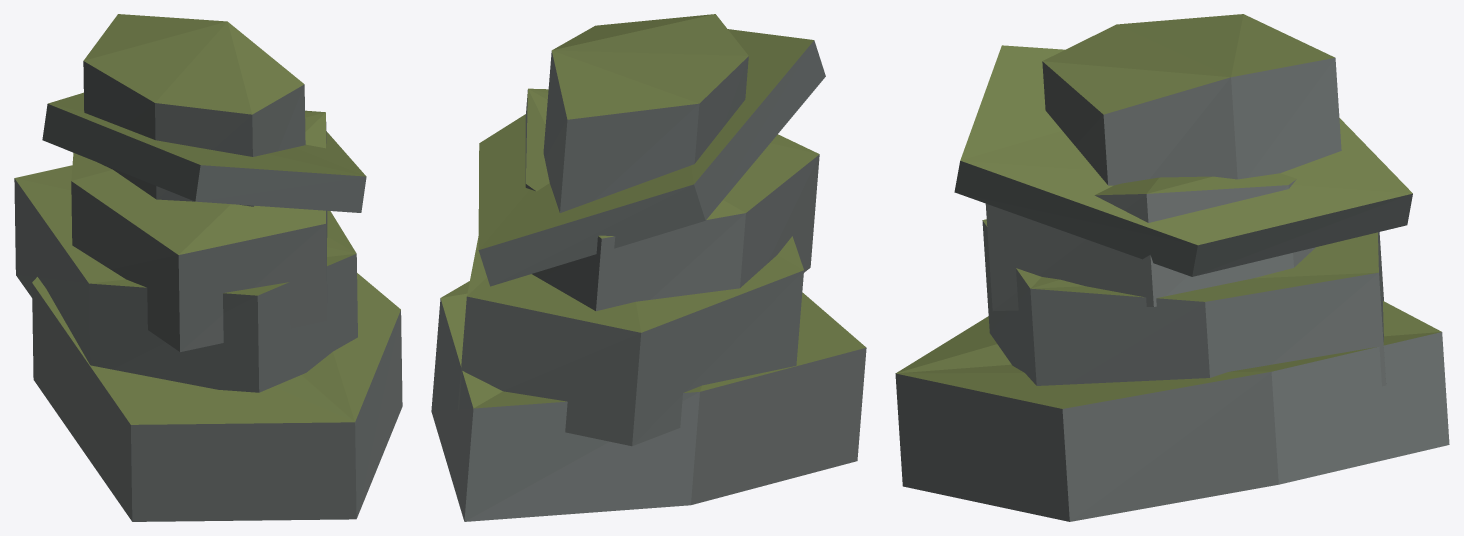
The model's file is rock.block__buried__autumn.glb.
The picture shows the model from 3 angles, left to right: view 1: azimuth 30°, elevation 25°; view 2: azimuth 150°, elevation 25°; view 3: azimuth 270°, elevation 25°; orthographic projection. The views are drawn at different scales.
Visible parts, largest first — view 1: rock.block; view 2: rock.block; view 3: rock.block.
Boxes of the visible parts, x1,y1,x2,y2 form: rock.block: [14, 14, 402, 521]; rock.block: [431, 14, 866, 521]; rock.block: [895, 14, 1449, 521].
Size of the model in its own units: 1.25 by 1.6 by 1.89.
